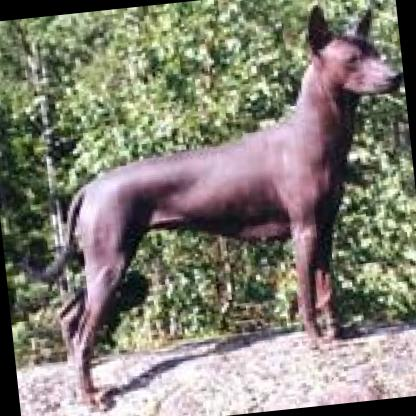Mexican_hairless: (11, 0, 416, 413)
